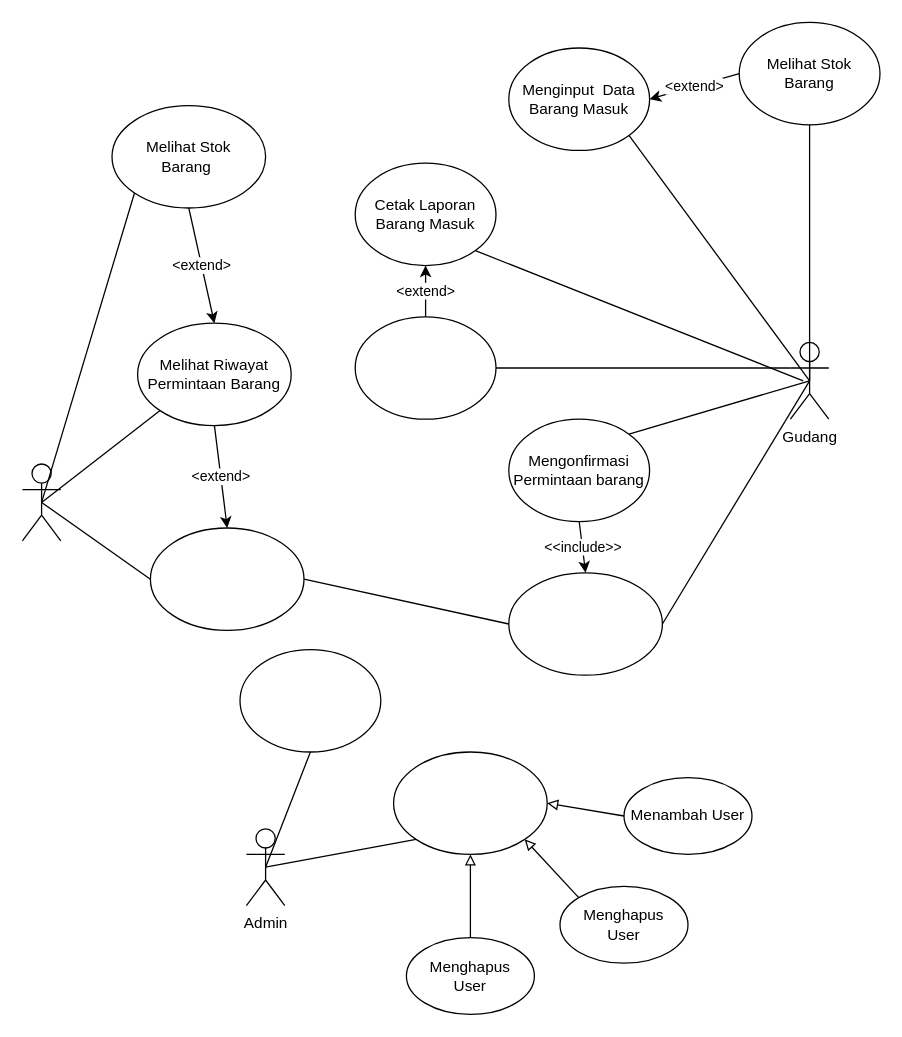
This 902x1037 diagram has some shape labels left out. Each missing label, with the centre of its shape:
"Cetak Laporan Barang Keluar" goes at (x=425, y=367).
"Membuat Permintaan Barang" goes at (x=226, y=578).
"Menerima Permintaan Barang" goes at (x=585, y=623).
"Mengelola User" goes at (x=469, y=802).
"Mengubah Hak Akses" goes at (x=310, y=700).
"Sales" goes at (x=41, y=502).
